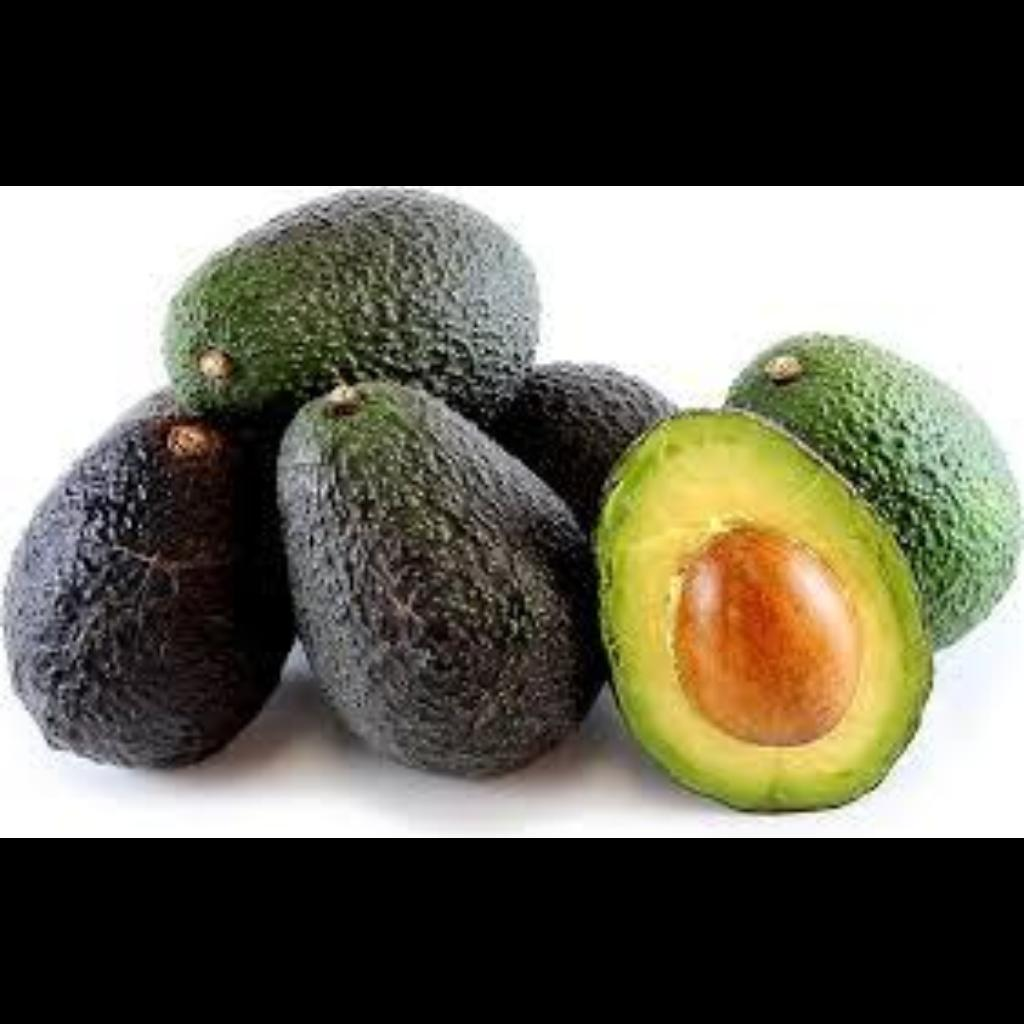Anthracnose: (279, 384, 581, 760), (38, 434, 250, 746)
